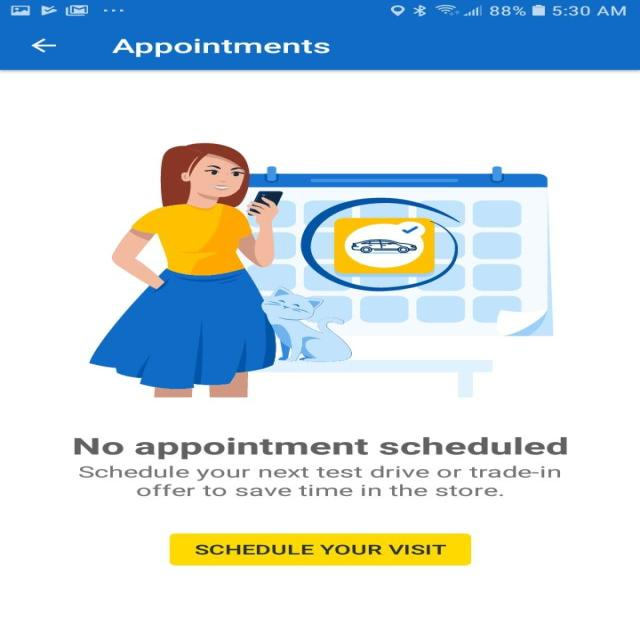Icon: (31, 39, 57, 53)
Image: (88, 142, 554, 398)
Text: (78, 465, 560, 496), (75, 436, 568, 459), (111, 38, 330, 58)
TextButton: (169, 533, 471, 565)
